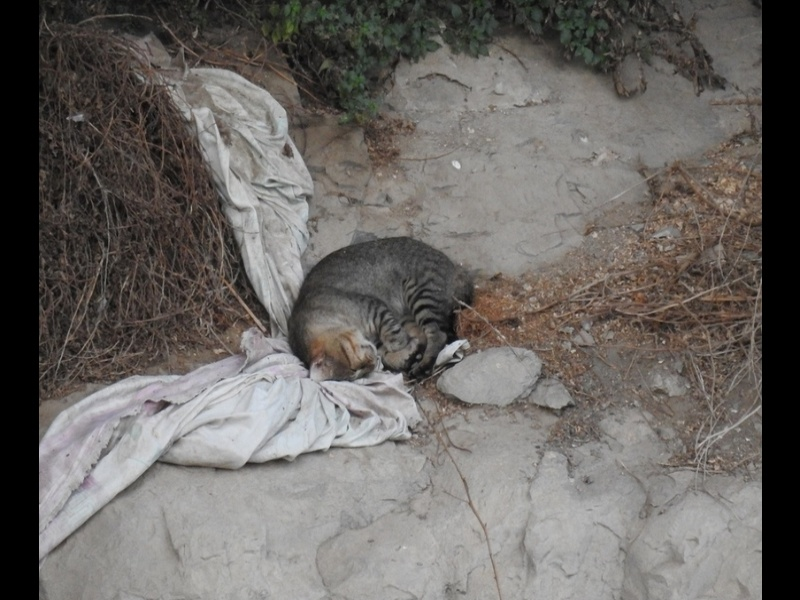cat: (289, 237, 478, 387)
